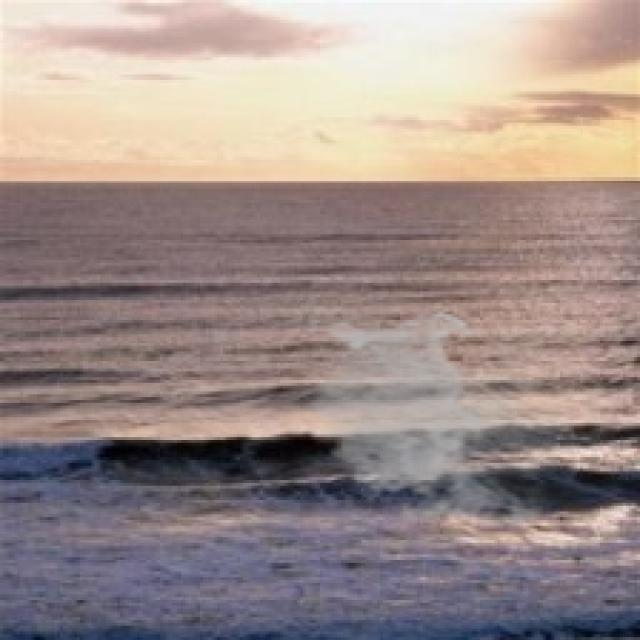Smoke: (297, 306, 574, 534)
